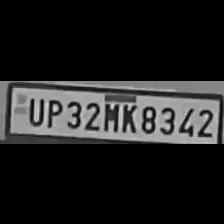2: (194, 105, 214, 136), (82, 96, 100, 130)
3: (63, 96, 81, 128), (156, 102, 174, 134)
4: (176, 103, 194, 135)
8: (136, 102, 156, 134)
K: (118, 100, 136, 132)
M: (102, 98, 118, 132)
P: (43, 95, 61, 127)
U: (24, 94, 44, 124)
